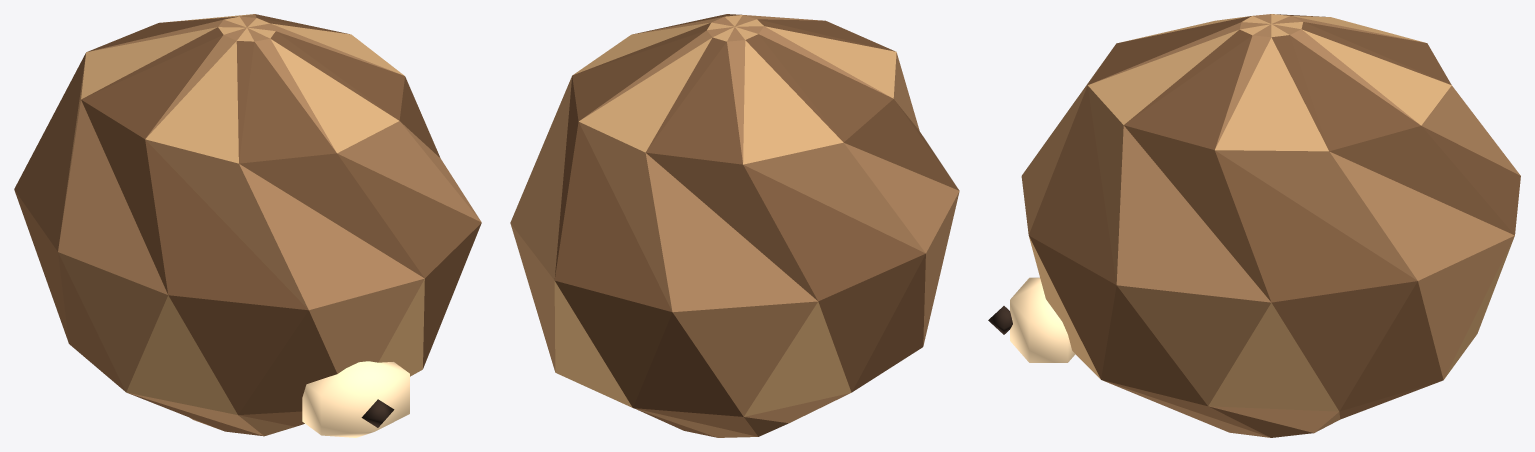
Rendered from hedgehog-ball.glb.
3 renders of one model, left to right at view 1: azimuth 30°, elevation 25°; view 2: azimuth 150°, elevation 25°; view 3: azimuth 270°, elevation 25°, orthographic. The views are drawn at different scales.
Visible parts, largest first — view 1: hedgehog-ball; view 2: hedgehog-ball; view 3: hedgehog-ball.
Boxes of the visible parts, x1=… form: hedgehog-ball: x1=14, y1=14, x2=481, y2=437; hedgehog-ball: x1=510, y1=14, x2=959, y2=437; hedgehog-ball: x1=988, y1=14, x2=1520, y2=437.
Bounding box in the file's own units: 0.497 × 0.48 × 0.587.
